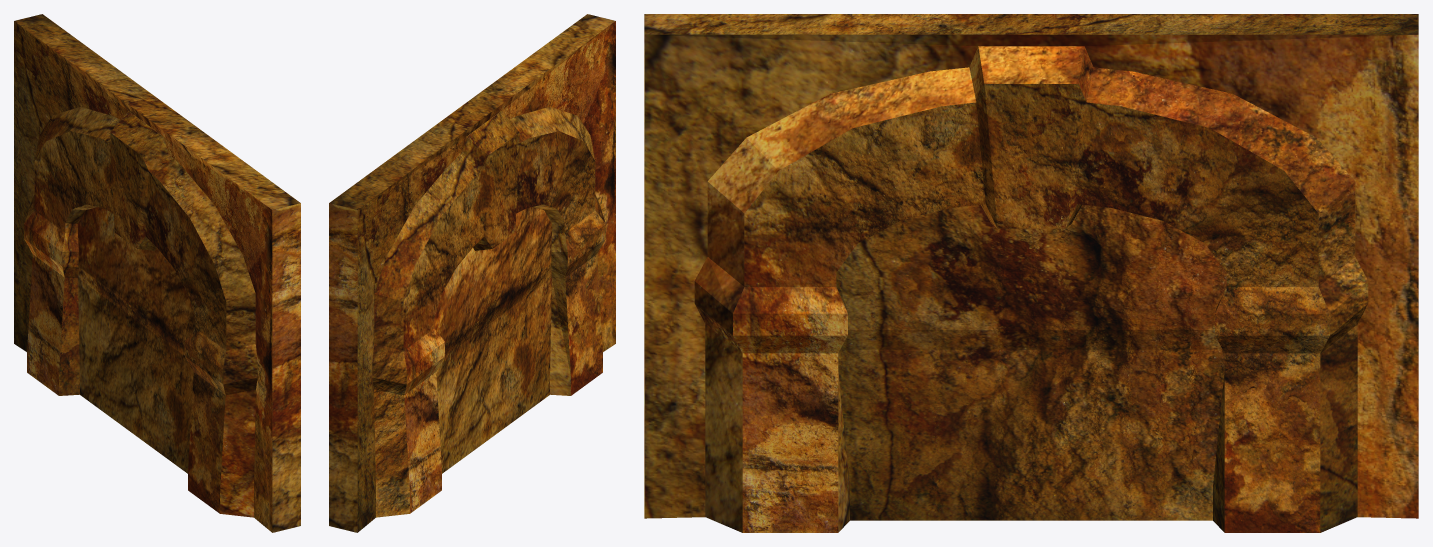
File: wall.dae
3 renders of one model, left to right at view 1: azimuth 30°, elevation 25°; view 2: azimuth 150°, elevation 25°; view 3: azimuth 270°, elevation 25°, orthographic. The views are drawn at different scales.
Visible parts, largest first — view 1: Cube; view 2: Cube; view 3: Cube.
Boxes of the visible parts, box(x1,y1,x2,y2) form: Cube: box(14, 14, 300, 532); Cube: box(329, 14, 615, 532); Cube: box(644, 14, 1418, 532).
Size of the model in its own units: 2.43 by 16 by 11.03.
1 material, 1 textured.
